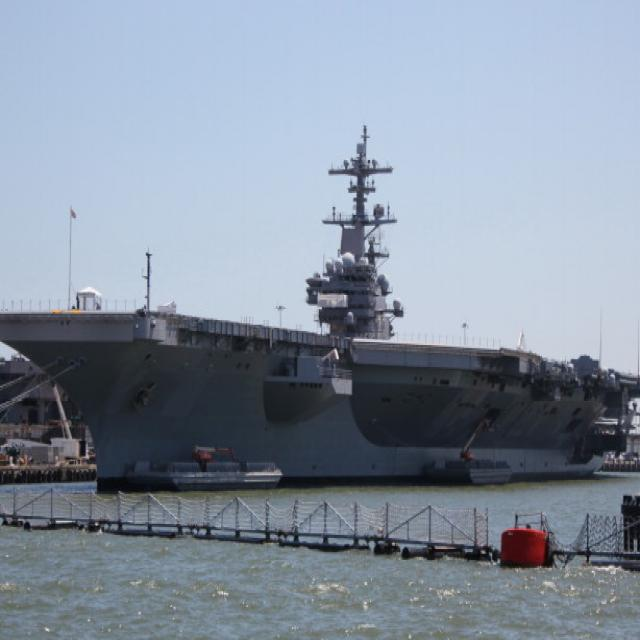Portanaves: (1, 123, 640, 500)
